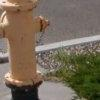Hydrant: (1, 1, 55, 100)
